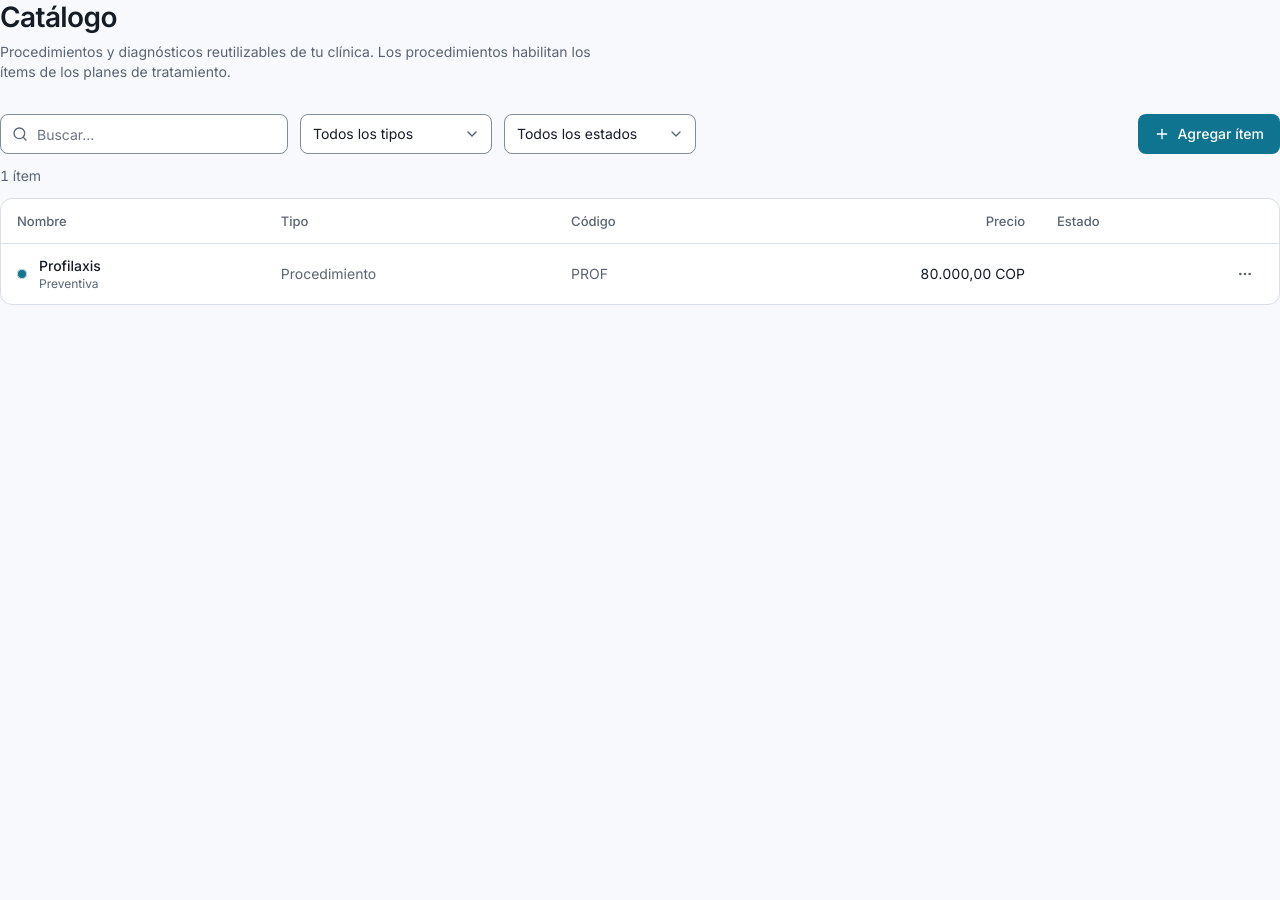
Test: CatalogView › tocar la fila abre el ítem en edición
The image size is (1280, 900).
Click the button "Profilaxis Preventiva" at [59, 274], box [17,256,101,292]
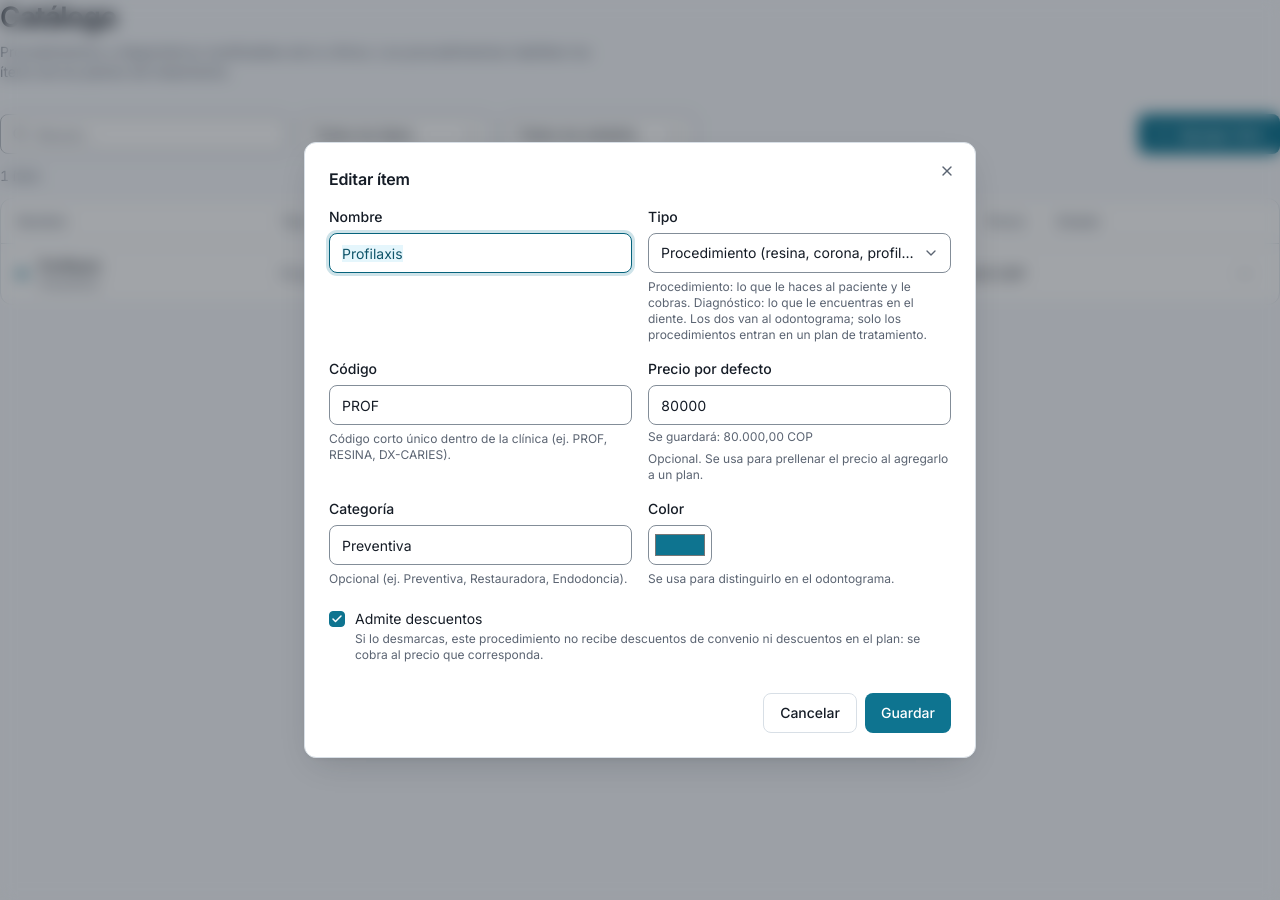
Expected: the dialog "Editar ítem" is shown, [304,142,976,758]
